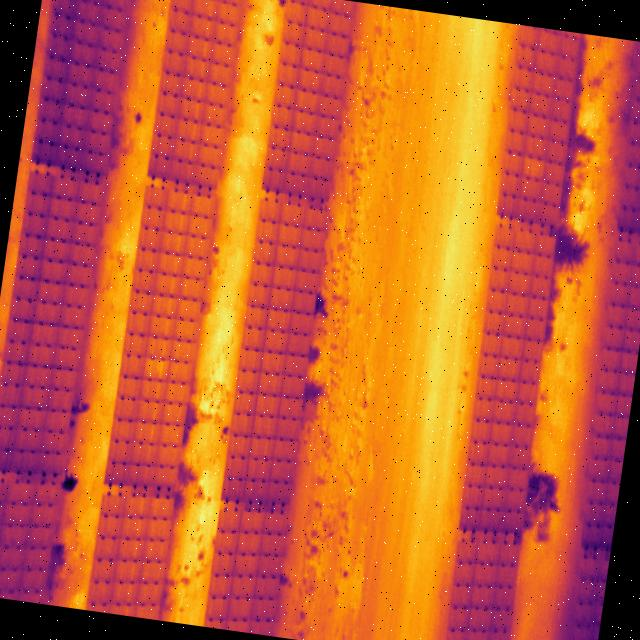Hotspot: (142, 352, 174, 384), (522, 158, 548, 177)
